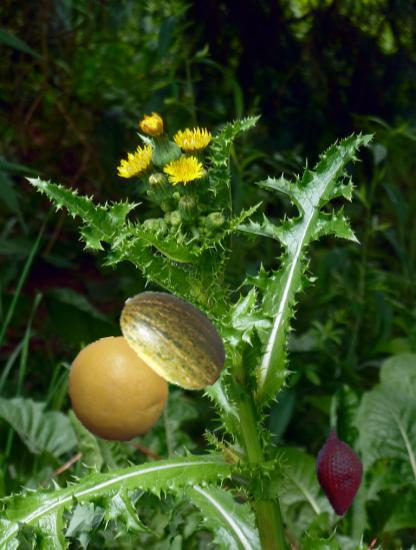Grapefruit: (65, 336, 172, 443)
Melon: (114, 277, 235, 398)
Salak: (294, 425, 386, 517)
